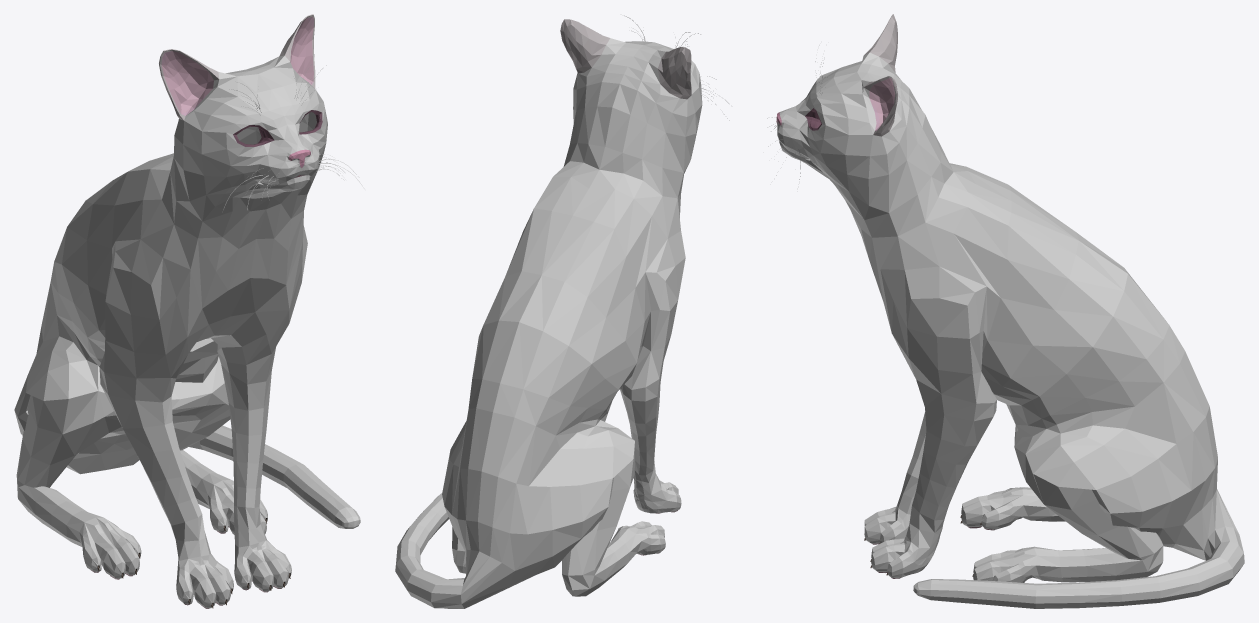
Rendered from Pet_sit_05.glb.
3 views of the same model, side by side, from view 1: azimuth 30°, elevation 25°; view 2: azimuth 150°, elevation 25°; view 3: azimuth 270°, elevation 25° (orthographic). The views are drawn at different scales.
Parts seen in each view (by area): view 1: Pet_sit_05; view 2: Pet_sit_05; view 3: Pet_sit_05.
Part boxes in pixels (left/top/right/bottom): Pet_sit_05: left=14, top=14, right=364, bottom=608; Pet_sit_05: left=395, top=15, right=729, bottom=608; Pet_sit_05: left=767, top=14, right=1244, bottom=608.
Size of the model in its own units: 0.2031 by 0.4322 by 0.3697.
1 material, 1 textured.
